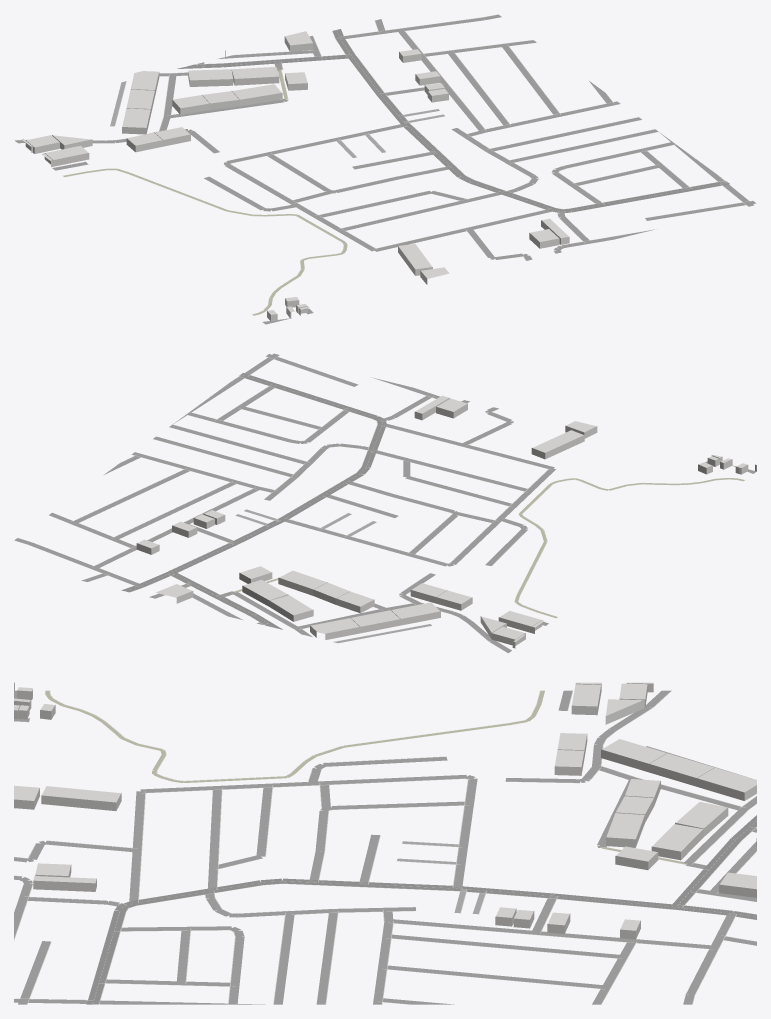
The model's file is chunk_-2_1.glb.
The picture shows the model from 3 angles, top to bottom: view 1: azimuth 30°, elevation 25°; view 2: azimuth 150°, elevation 25°; view 3: azimuth 270°, elevation 25°; orthographic projection. The views are drawn at different scales.
Parts seen in each view (by area): view 1: roads_04_04_04, buildings_0816_0808_0788, roads_kerbs_markings, roads_0333_0333_0333, roads_06_06_0467, roads_0467_0467_0467; view 2: roads_04_04_04, buildings_0816_0808_0788, roads_kerbs_markings, roads_0333_0333_0333, roads_06_06_0467, roads_0467_0467_0467; view 3: roads_04_04_04, buildings_0816_0808_0788, roads_kerbs_markings, roads_0333_0333_0333, roads_06_06_0467, roads_0467_0467_0467.
Part boxes in pixels (left/top/right/bottom): roads_04_04_04: left=15, top=14, right=756, bottom=324; buildings_0816_0808_0788: left=21, top=31, right=569, bottom=321; roads_kerbs_markings: left=17, top=14, right=752, bottom=321; roads_0333_0333_0333: left=177, top=29, right=729, bottom=212; roads_06_06_0467: left=63, top=69, right=347, bottom=315; roads_0467_0467_0467: left=110, top=81, right=444, bottom=157; roads_04_04_04: left=14, top=353, right=756, bottom=652; buildings_0816_0808_0788: left=136, top=395, right=756, bottom=648; roads_kerbs_markings: left=14, top=355, right=752, bottom=652; roads_0333_0333_0333: left=121, top=373, right=386, bottom=629; roads_06_06_0467: left=233, top=478, right=744, bottom=618; roads_0467_0467_0467: left=235, top=509, right=431, bottom=643; roads_04_04_04: left=14, top=690, right=756, bottom=1004; buildings_0816_0808_0788: left=14, top=682, right=756, bottom=939; roads_kerbs_markings: left=14, top=690, right=756, bottom=1004; roads_0333_0333_0333: left=86, top=815, right=756, bottom=1004; roads_06_06_0467: left=45, top=690, right=687, bottom=864; roads_0467_0467_0467: left=397, top=746, right=751, bottom=914.
Bounding box in the file's own units: 500 × 6.45 × 500.
